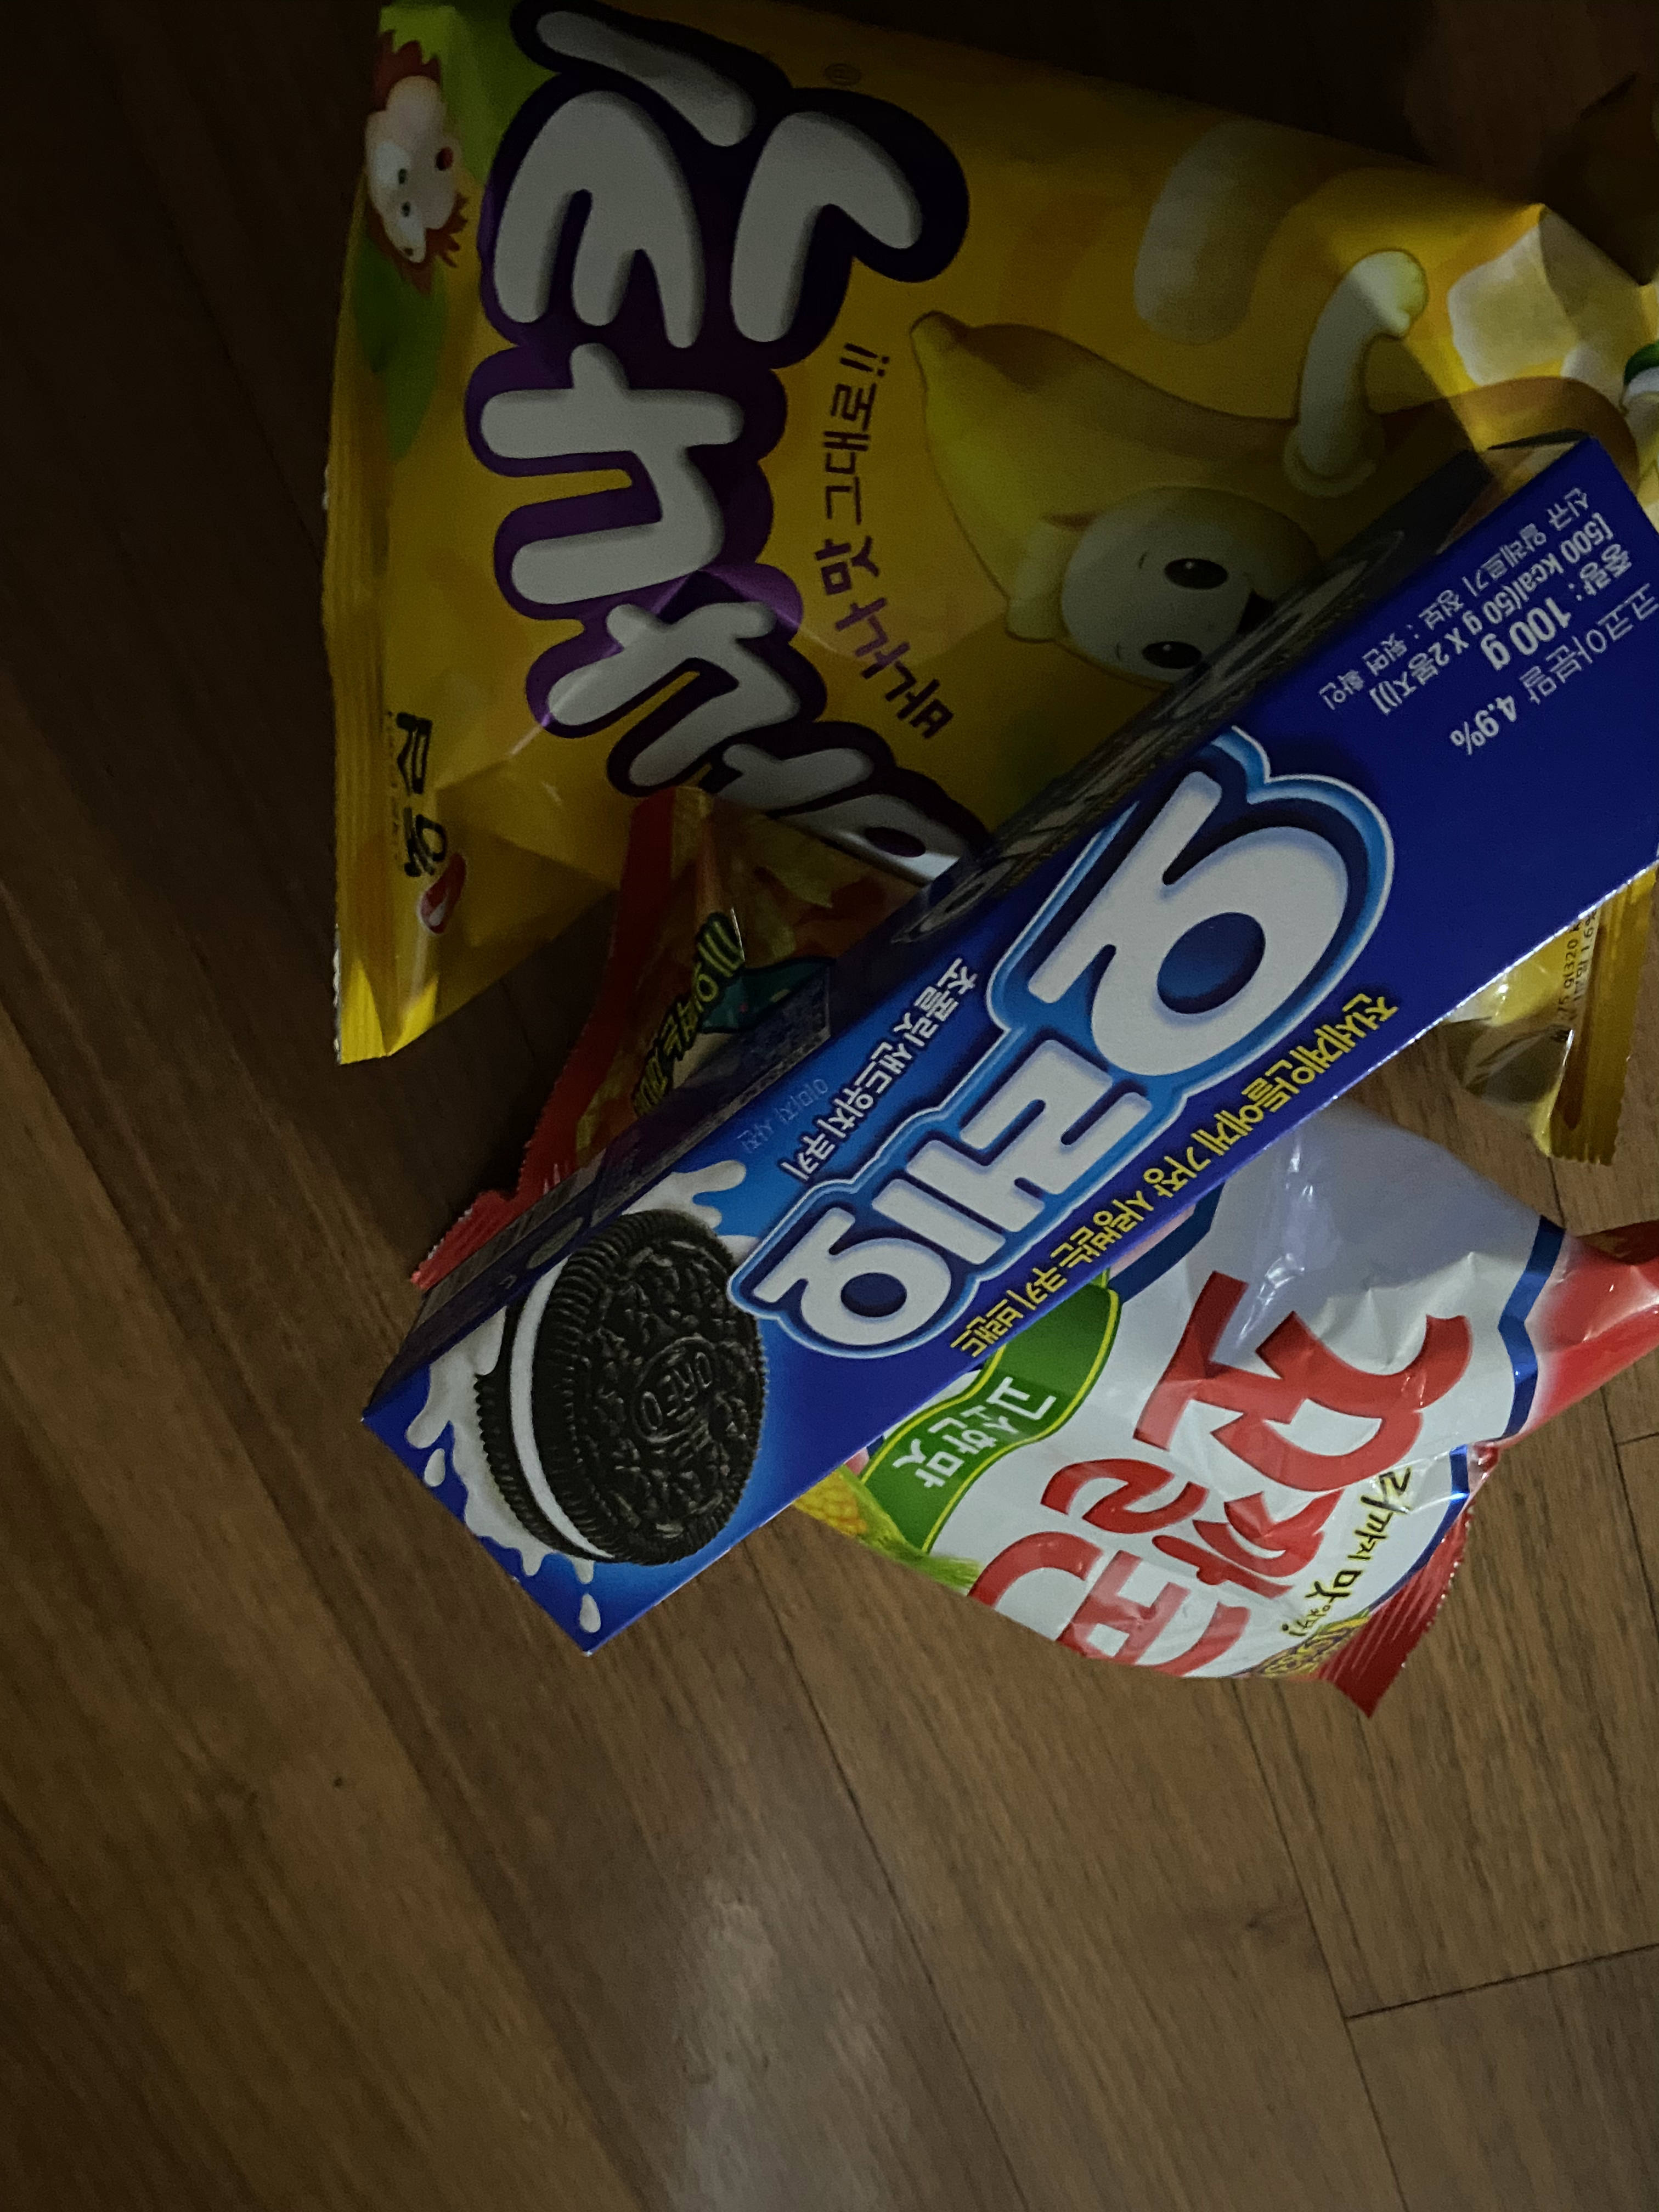banana: (284, 0, 1659, 1181)
ggoggalcon: (376, 756, 1659, 1719)
oreo: (347, 420, 1659, 1681)
